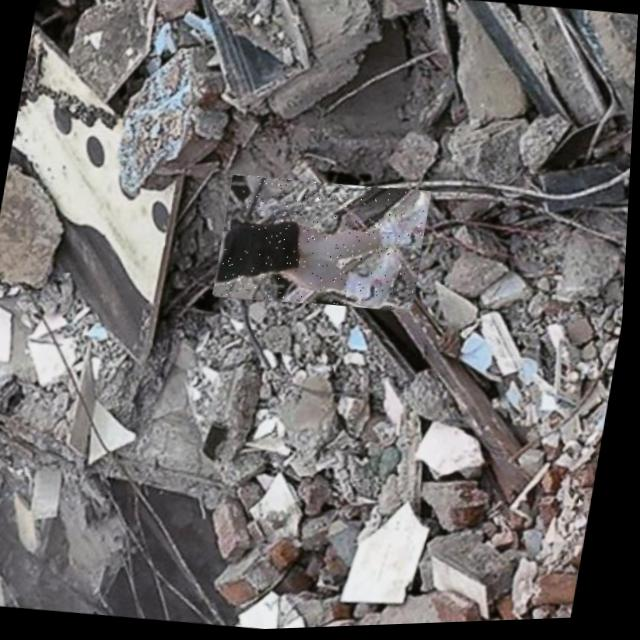Person in Rubble: (214, 169, 434, 321)
